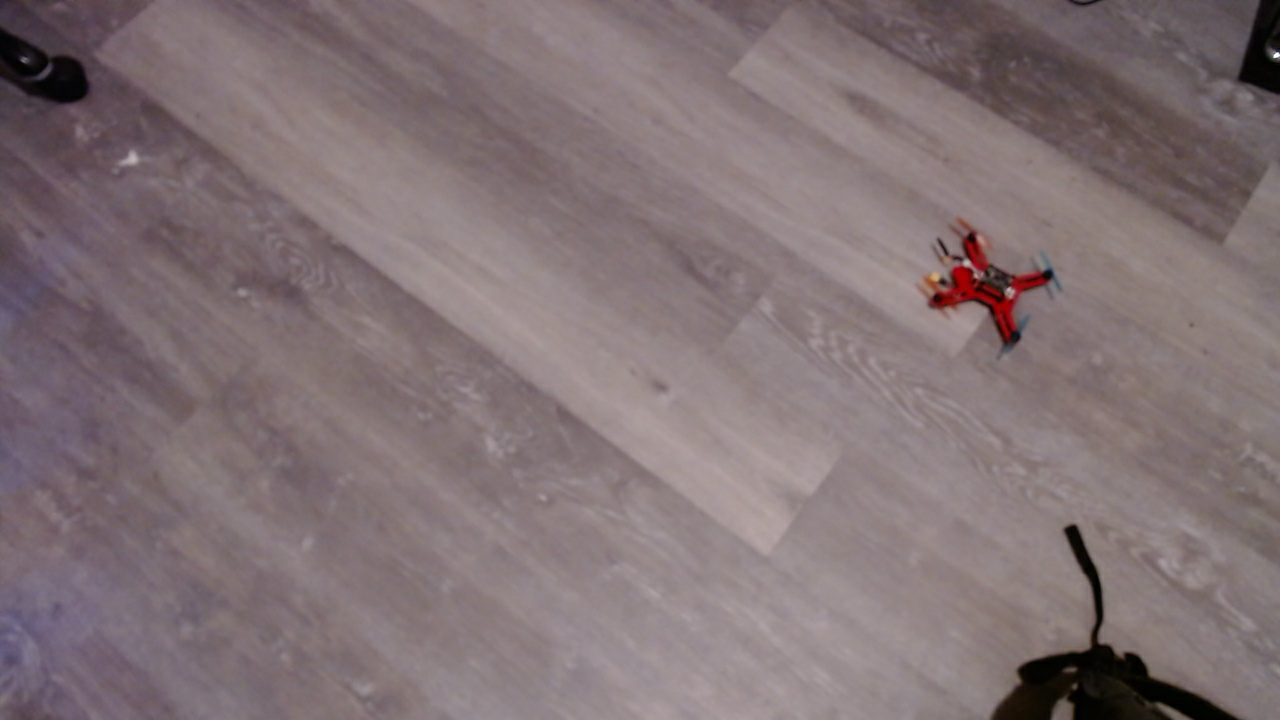crazyflie: (923, 218, 1060, 360)
